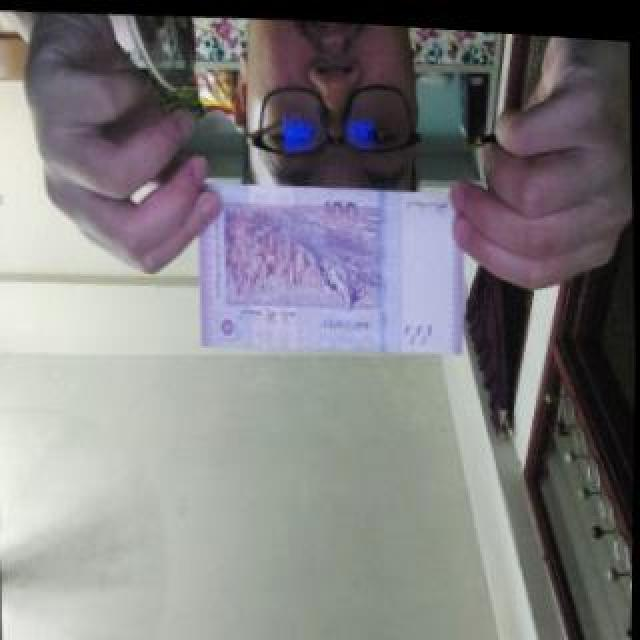100 Ringgit: (180, 152, 476, 373)
